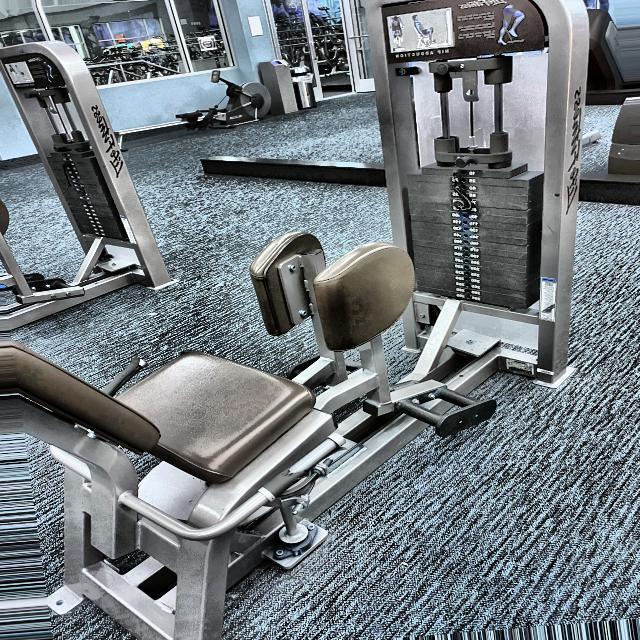hip_adduction_machine: (224, 203, 506, 475), (379, 6, 567, 58), (392, 48, 454, 58)
